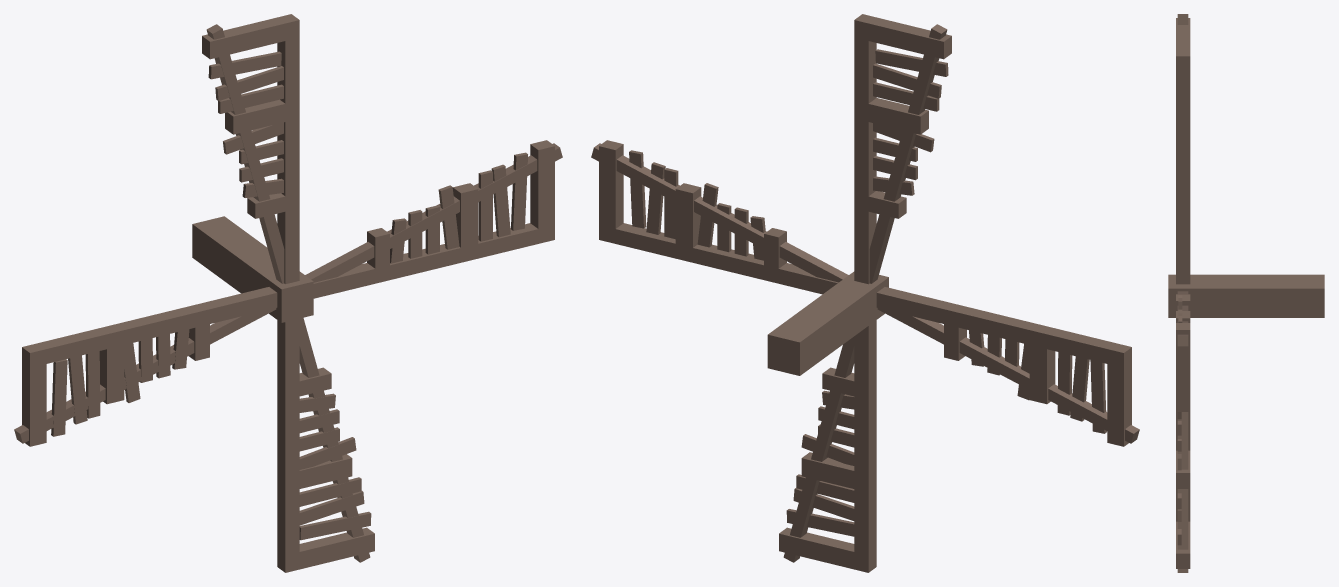
File: windmill_01.fbx
3 renders of one model, left to right at view 1: azimuth 30°, elevation 25°; view 2: azimuth 150°, elevation 25°; view 3: azimuth 270°, elevation 25°, orthographic. The views are drawn at different scales.
Parts seen in each view (by area): view 1: Mill_P; view 2: Mill_P; view 3: Mill_P.
Boxes of the visible parts, x1,y1,x2,y2 form: Mill_P: (14, 14, 562, 572); Mill_P: (591, 14, 1139, 572); Mill_P: (1168, 14, 1324, 572).
Size of the model in its own units: 0.5328 by 0.5328 by 0.1518.
